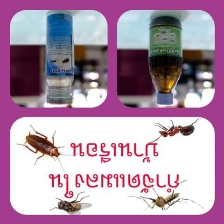insecticide: (144, 8, 185, 106), (40, 6, 78, 107)
